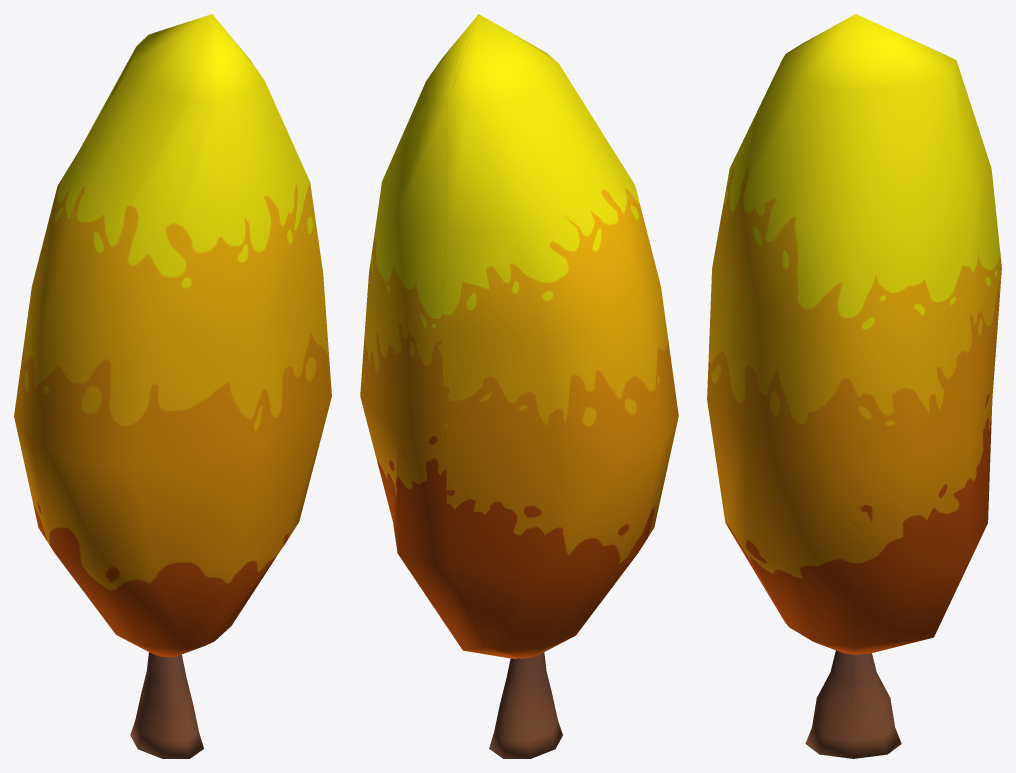
File: Tree_Orange1.fbx
3 views of the same model, side by side, from view 1: azimuth 30°, elevation 25°; view 2: azimuth 150°, elevation 25°; view 3: azimuth 270°, elevation 25° (orthographic). The views are drawn at different scales.
Parts seen in each view (by area): view 1: polySurface22; view 2: polySurface22; view 3: polySurface22.
Boxes of the visible parts, <box> form: polySurface22: <box>14,14,331,758</box>; polySurface22: <box>360,14,678,758</box>; polySurface22: <box>707,14,1001,758</box>.
Bounding box in the file's own units: 2.64 × 6.31 × 2.24.
